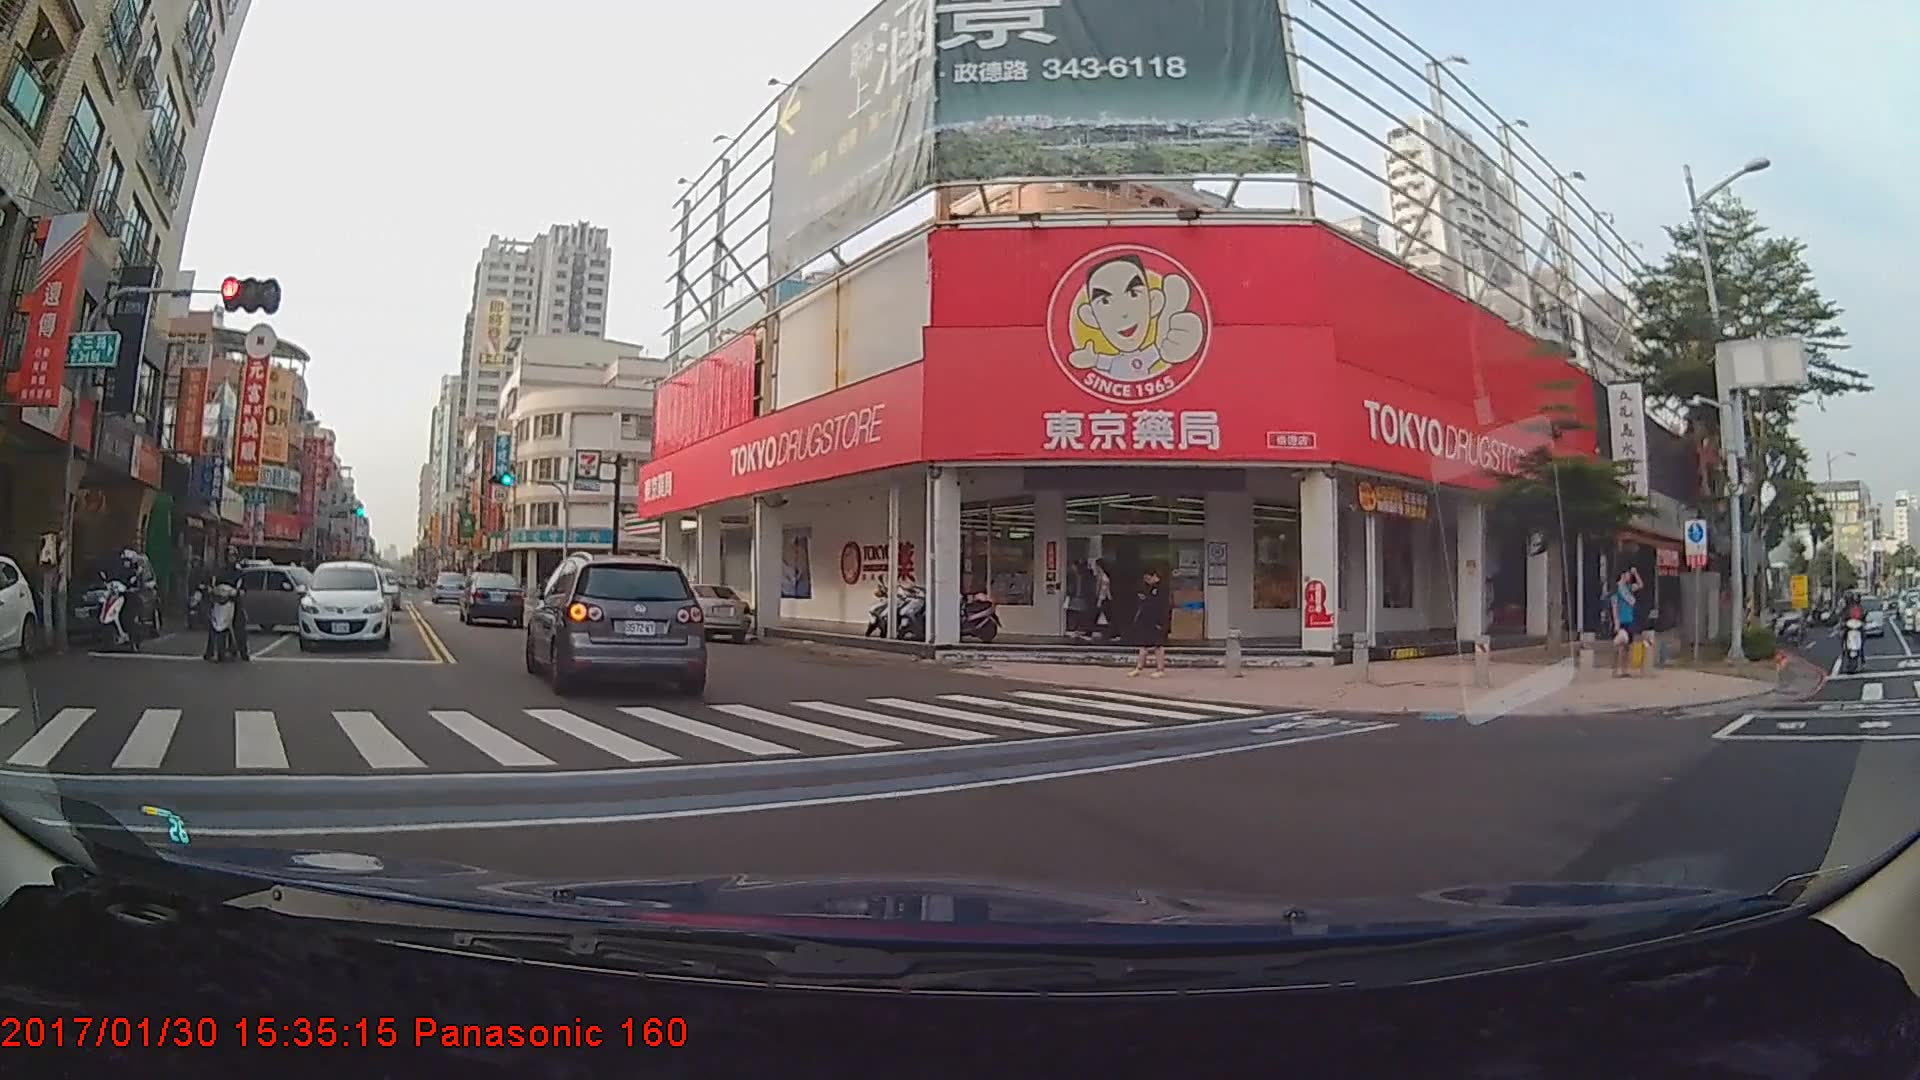pedestrian: (1131, 563, 1176, 680), (1607, 564, 1649, 679), (1064, 557, 1101, 639), (1091, 555, 1119, 643)
rider: (88, 549, 159, 657), (197, 539, 254, 658), (1834, 593, 1873, 673)
vehicle: (526, 556, 705, 693), (41, 542, 162, 640), (296, 559, 391, 650), (224, 563, 336, 632), (651, 581, 751, 643), (460, 571, 525, 627), (1843, 591, 1884, 636)
